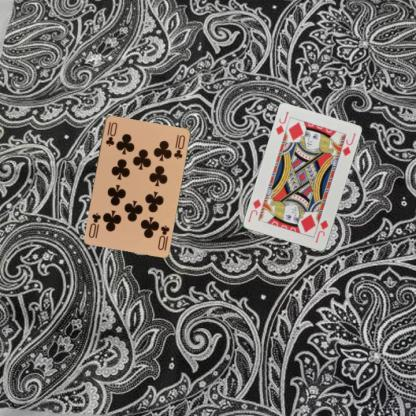10c: (155, 222, 170, 252), (103, 119, 118, 147)
Jd: (312, 217, 330, 244), (273, 110, 290, 136)
